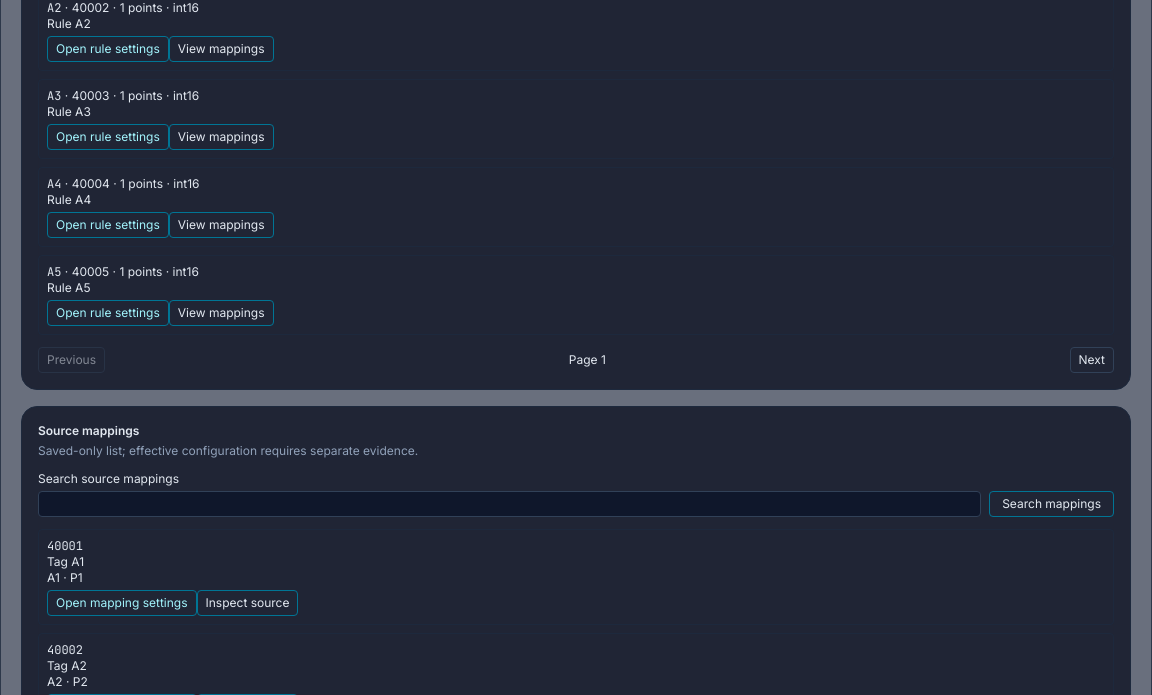
bounded runtime source lists › supports explicit previous and next pages and resets cursor on search
The image size is (1152, 695).
(page scrolled)
Check: the button with aria-label "Previous source rules page" is disabled, box [38,347,105,373]
Step 1. Click the button with aria-label "Next source rules page" → (1092, 360), box [1070,347,1114,373]
(page scrolled)
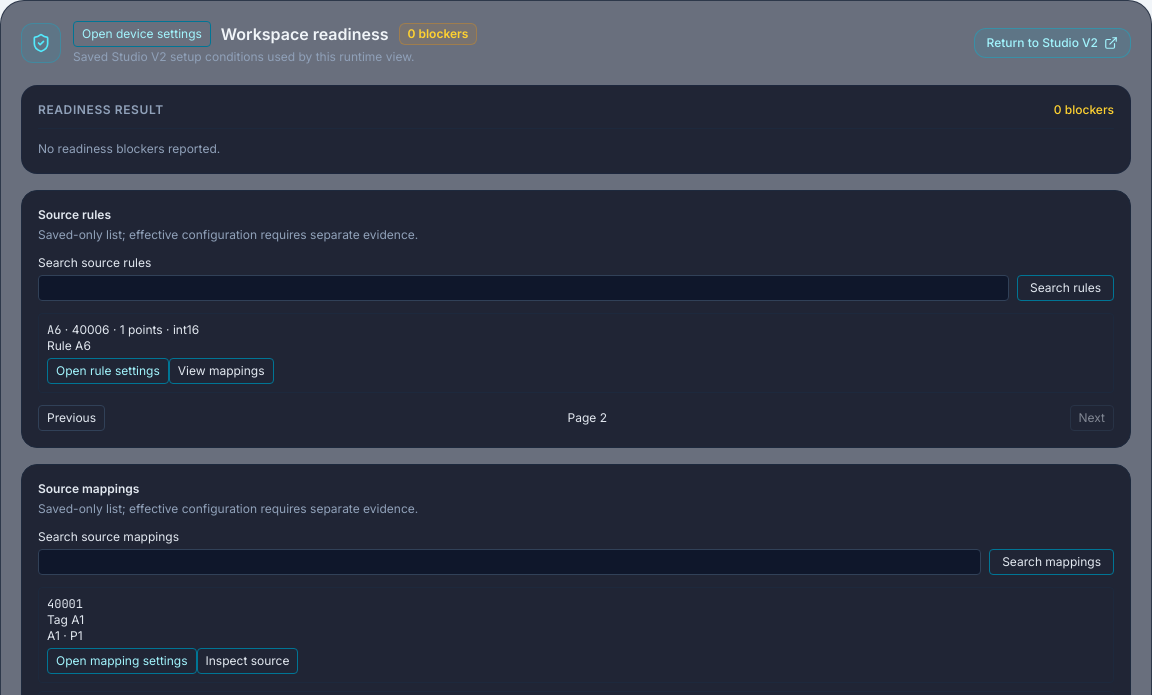
Check: the button with aria-label "Show mappings for A6" is shown, box [169,358,274,384]
Check: the button with aria-label "Next source rules page" is disabled, box [1070,405,1114,431]
Step 2. Click the button with aria-label "Previous source rules page" → (72, 418), box [38,405,105,431]
(page scrolled)
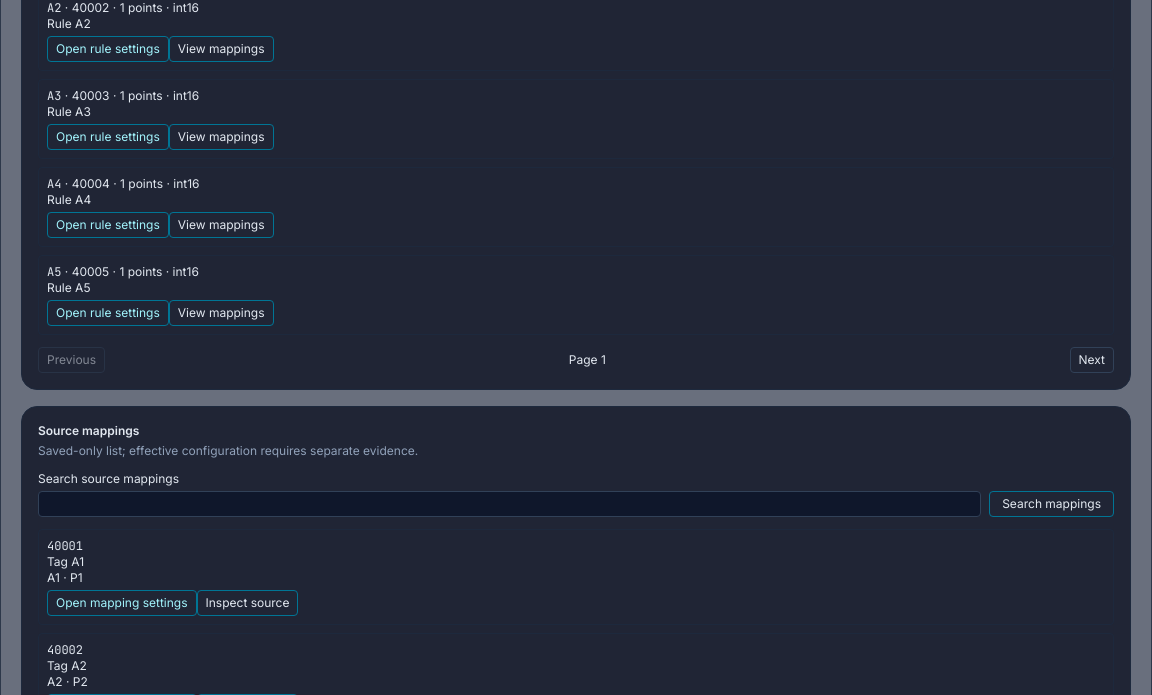
Step 3. Click the button with aria-label "Next source rules page" → (1092, 360), box [1070,347,1114,373]
(page scrolled)
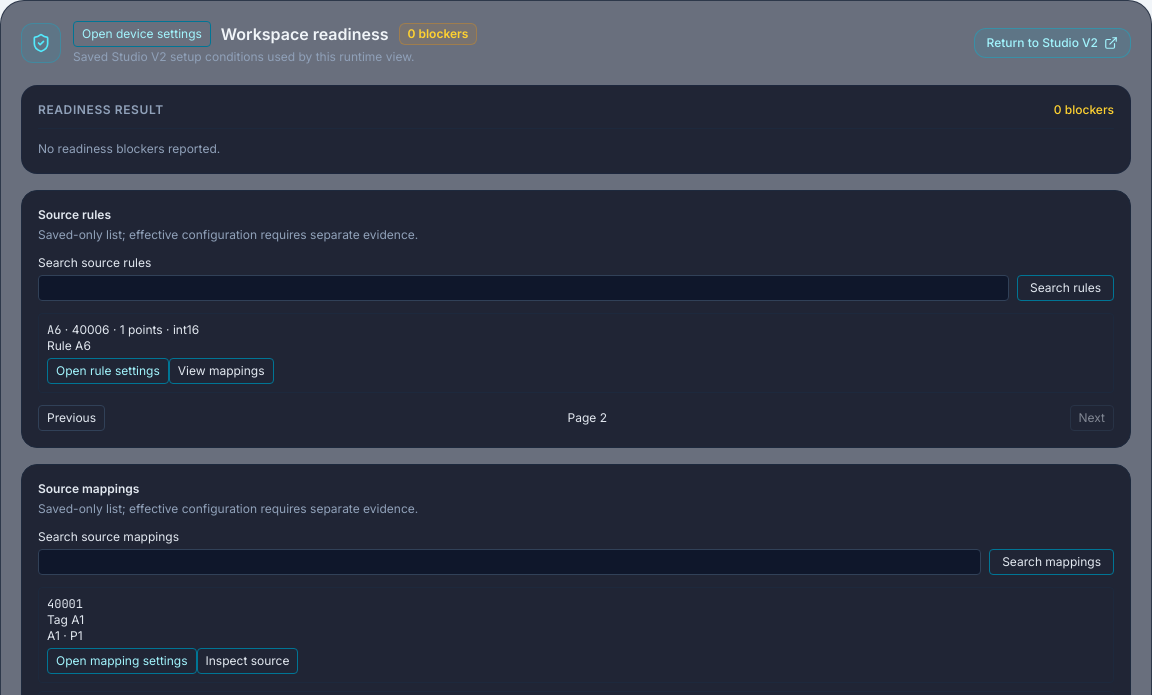
Check: the button with aria-label "Show mappings for A6" is shown, box [169,358,274,384]
Step 4. Type "A2" into the field labelled "Search source rules" → (524, 288), box [38,275,1009,301]
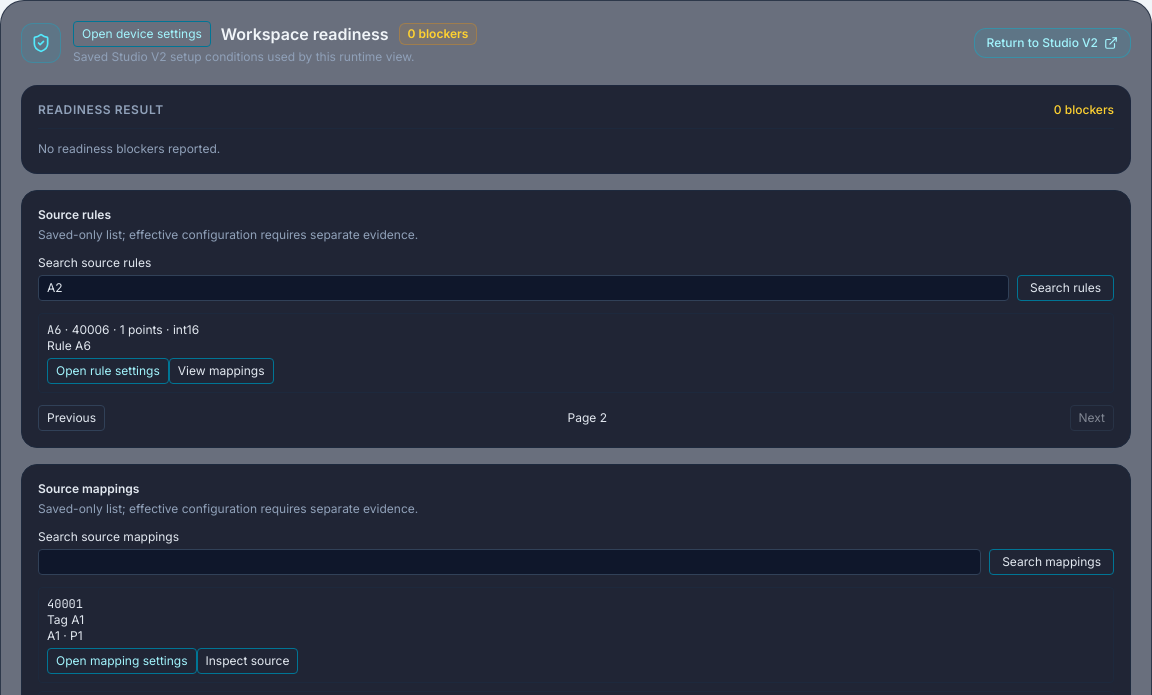
Step 5. Submit the form "Search source rules Search rules", box [38,255,1114,301]
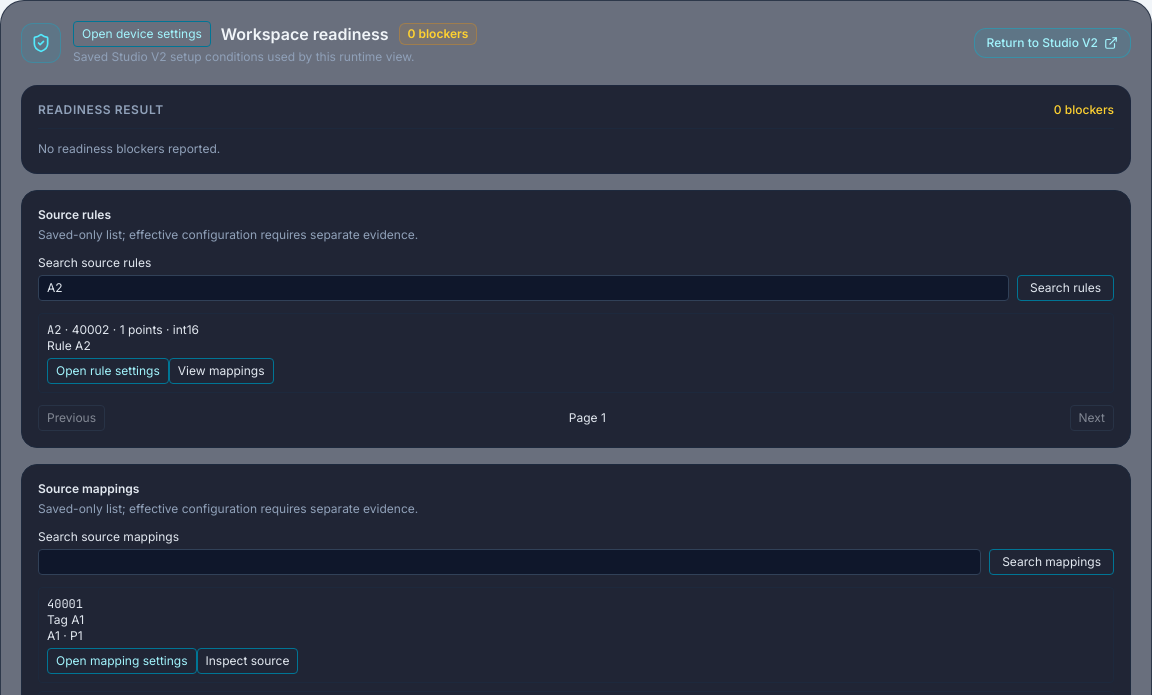
Check: the button with aria-label "Show mappings for A2" is shown, box [169,358,274,384]
Check: the text "Page 1" is shown, box [569,410,606,426]
